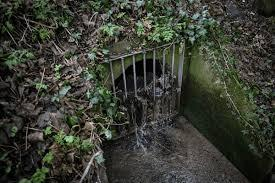Blocked drain: (104, 31, 228, 183)
